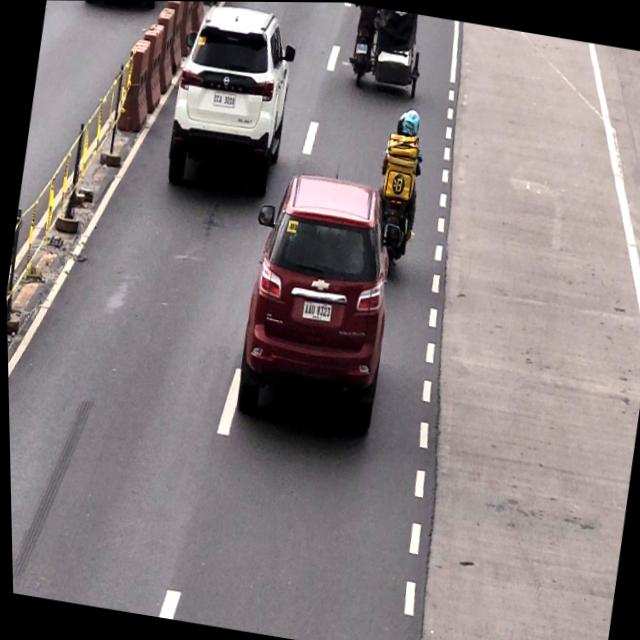Car: (228, 168, 408, 437), (155, 1, 303, 204), (344, 4, 428, 101)
License-Plate: (301, 295, 333, 324), (209, 89, 237, 112)
Motorcycle: (367, 107, 433, 272)
